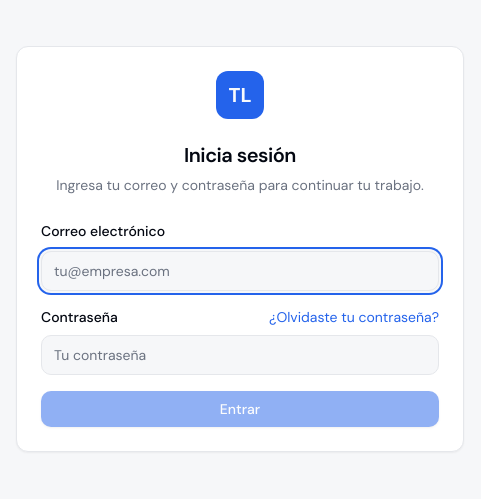
Test: LoginForm › shows error state when submit fails
The width and height of the screenshot is (481, 499).
In the field labelled "Correo electrónico": (240, 271) [41,251,439,291], type "bad@test.com"
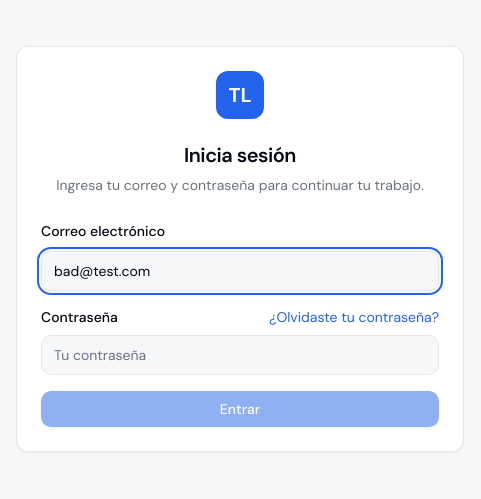
In the password field labelled "Contraseña": (240, 355) [41,335,439,375], type "wrong-password"
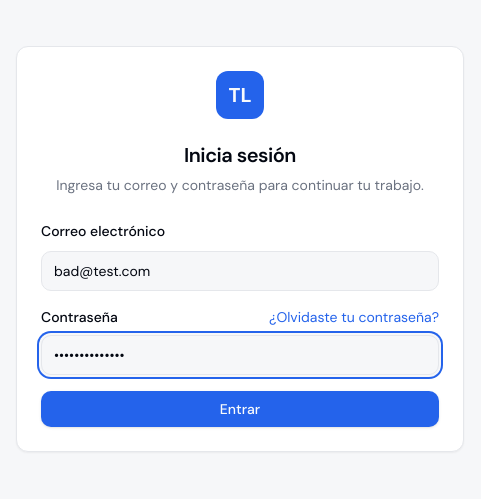
Click the button "Entrar": (240, 409) [41,391,439,427]
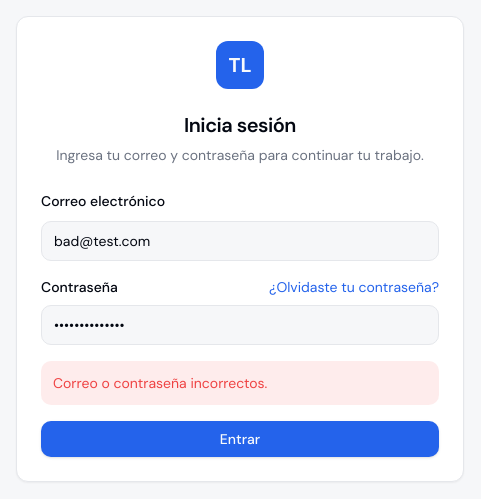
Expected: the text "Correo o contraseña incorrectos." is shown, [41,361,439,405]
